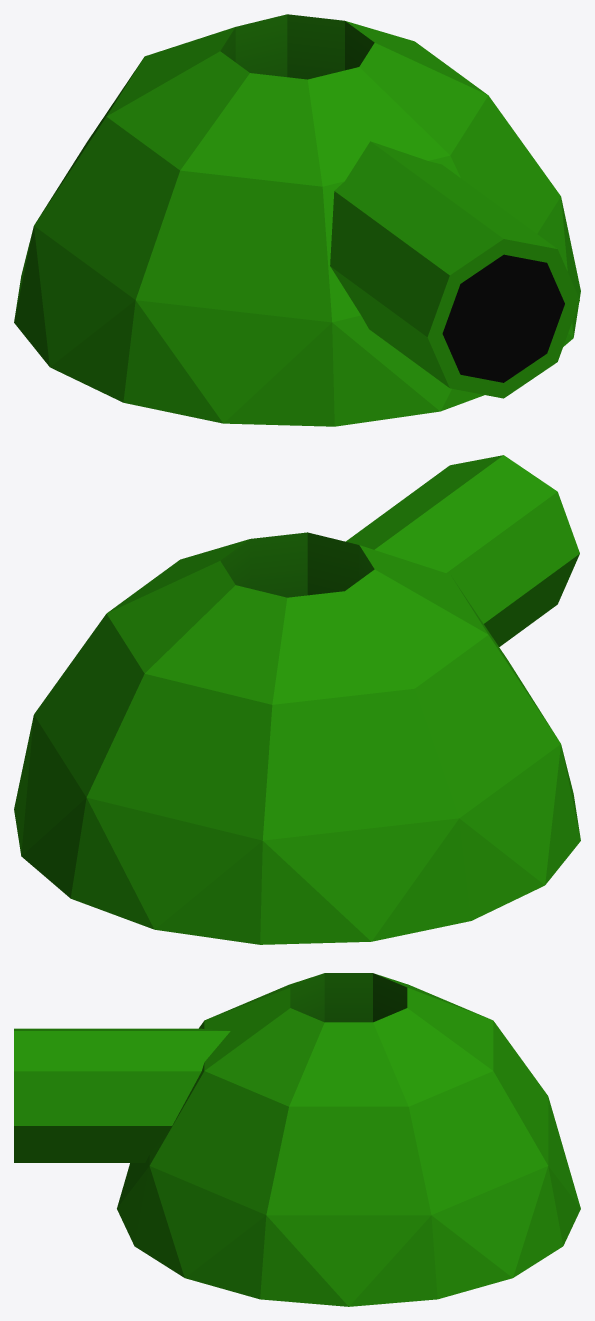
The model's file is Cannon.dae.
The picture shows the model from 3 angles, top to bottom: view 1: azimuth 30°, elevation 25°; view 2: azimuth 150°, elevation 25°; view 3: azimuth 270°, elevation 25°; orthographic projection. The views are drawn at different scales.
Visible parts, largest first — view 1: Circle; view 2: Circle; view 3: Circle.
Part boxes in pixels (x1,y1,x2,y2): Circle: (14,14,580,426); Circle: (14,455,580,944); Circle: (14,973,580,1306).
Size of the model in its own units: 7.98 by 9.75 by 4.
